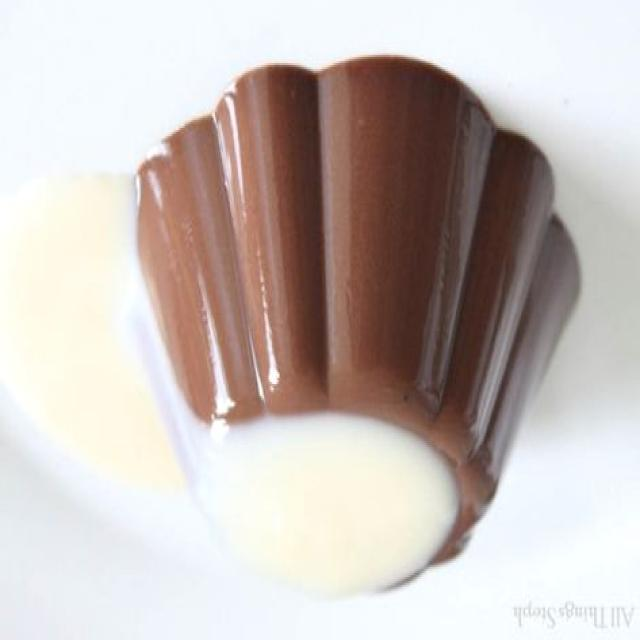puding: (131, 53, 580, 599)
